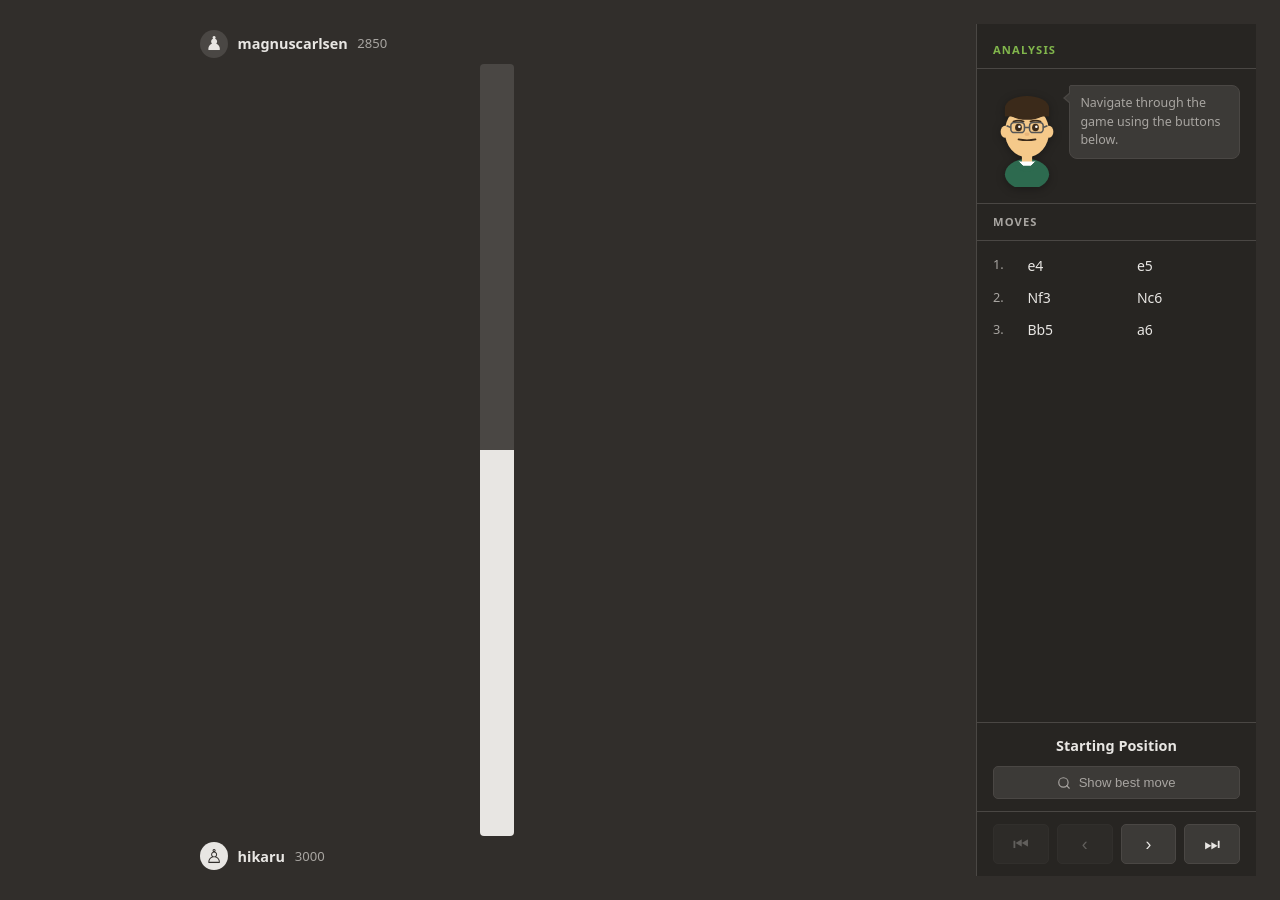
Test: ReviewPage navigation › advances move index when Next is clicked
Click the button titled "Next".
click(1148, 844)  # box [1120,824,1176,864]
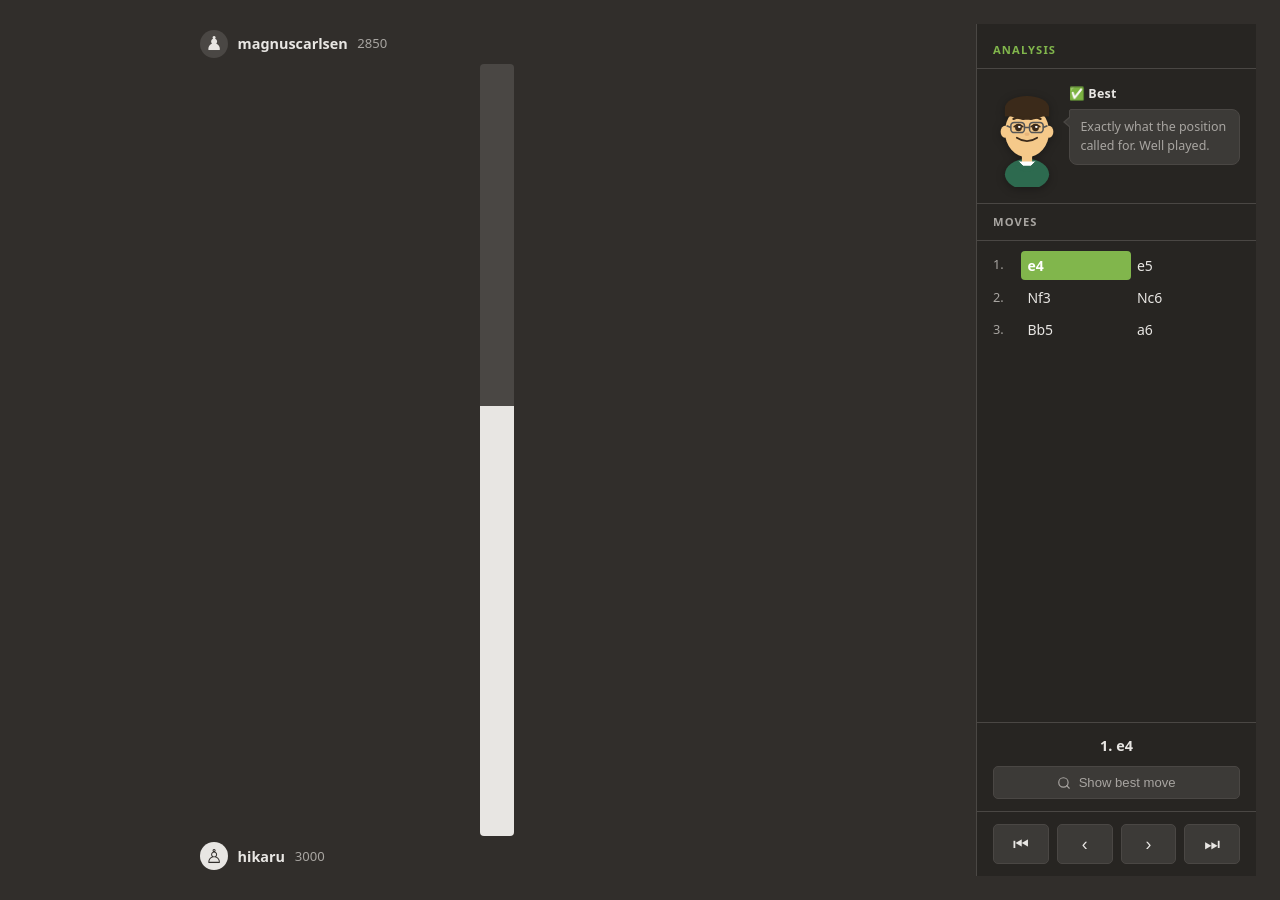
Expected: the text "1. e4" is shown, [1100,736,1133,755]
